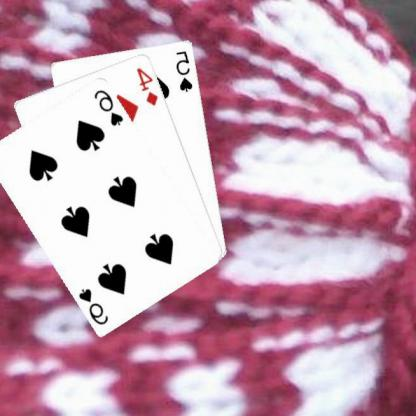4D: (136, 64, 162, 107)
5S: (175, 47, 196, 93)
6S: (78, 285, 112, 326), (93, 86, 126, 127)
